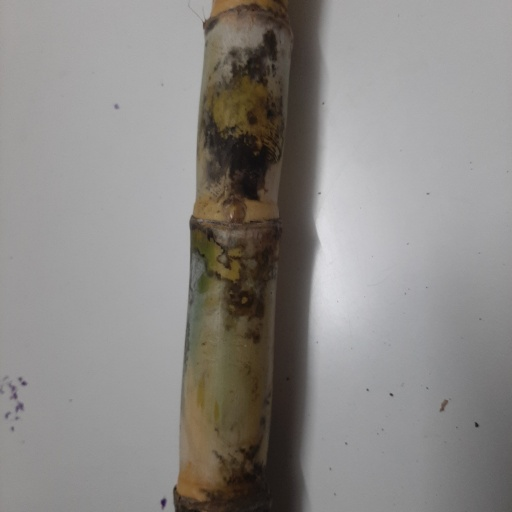Bud: (224, 201, 246, 222)
